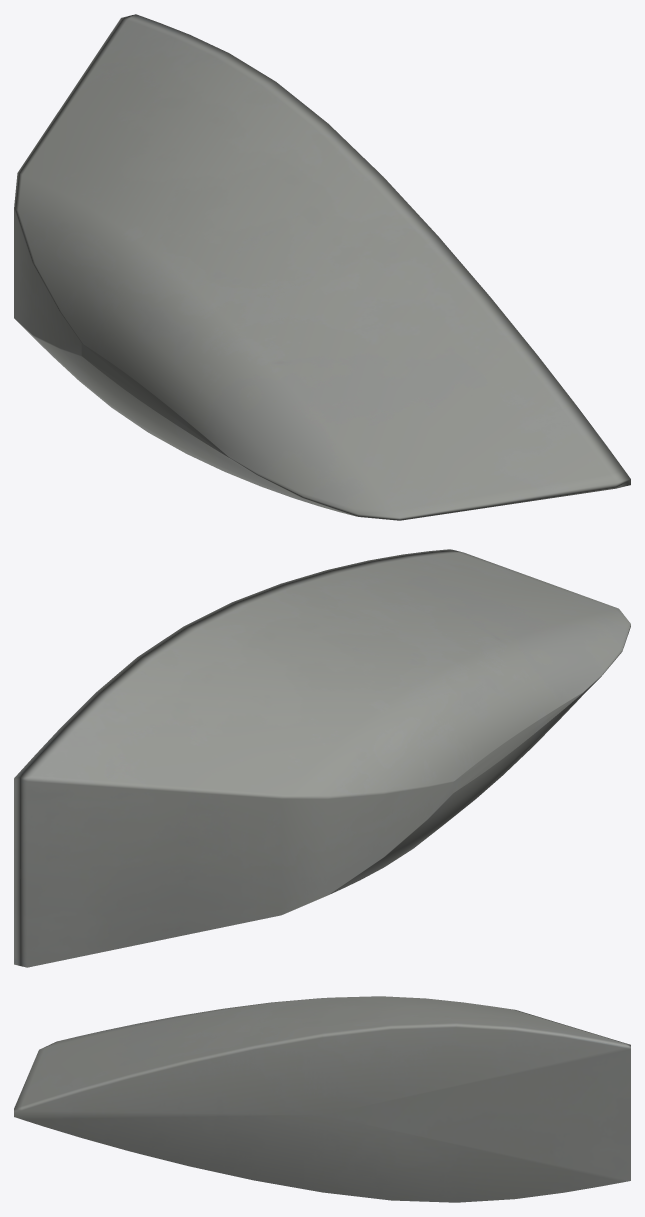
The model's file is SM_Nacelle_D.glb.
3 views of the same model, one above another, from view 1: azimuth 30°, elevation 25°; view 2: azimuth 150°, elevation 25°; view 3: azimuth 270°, elevation 25° (orthographic). The views are drawn at different scales.
Size of the model in its own units: 0.6447 by 0.6266 by 2.
1 material, 1 textured.
